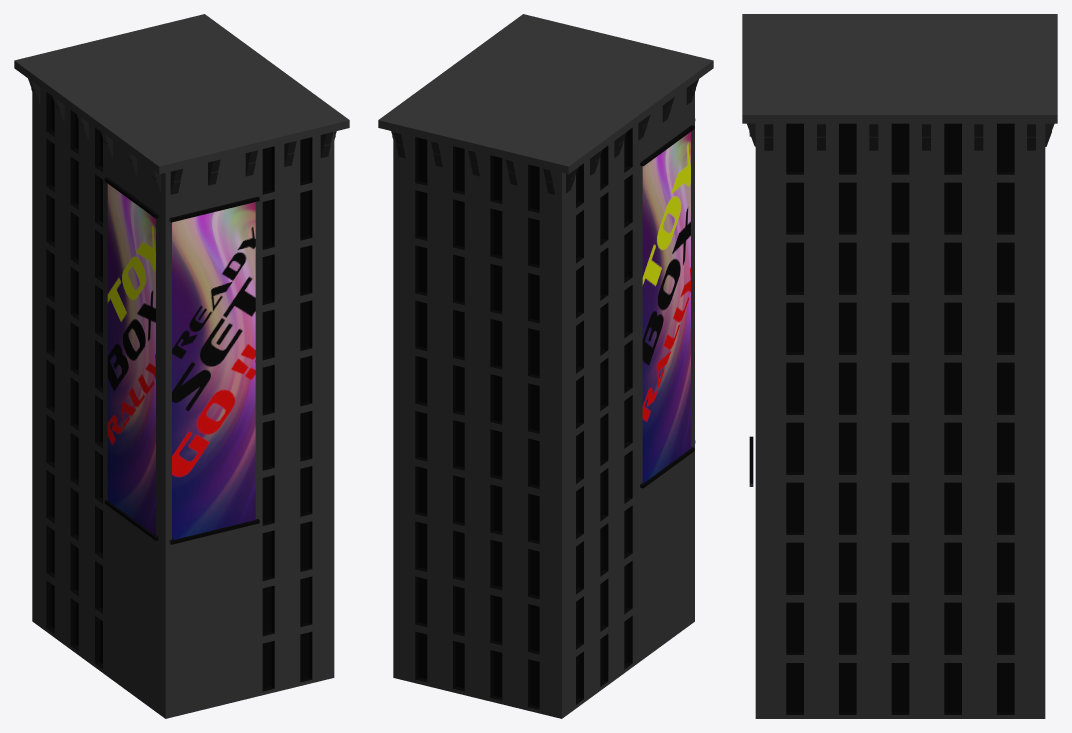
Rendered from house4.FBX.
3 renders of one model, left to right at view 1: azimuth 30°, elevation 25°; view 2: azimuth 150°, elevation 25°; view 3: azimuth 270°, elevation 25°, orthographic. The views are drawn at different scales.
Parts seen in each view (by area): view 1: Box001, Box002, Plane002, Plane001, Object001; view 2: Box001, Box002, Object001, Plane001; view 3: Box001, Object001, Box002.
Boxes of the visible parts, x1,y1,x2,y2 form: Box001: [32, 87, 334, 718]; Box002: [14, 14, 349, 174]; Plane002: [172, 202, 255, 540]; Plane001: [107, 184, 155, 535]; Object001: [51, 96, 309, 688]; Box001: [393, 88, 694, 718]; Box002: [378, 14, 713, 174]; Object001: [418, 132, 627, 706]; Plane001: [642, 132, 690, 483]; Box001: [755, 123, 1045, 718]; Object001: [786, 123, 1014, 712]; Box002: [742, 14, 1057, 123].
Bounding box in the file's own units: 957 × 2683 × 1260.
